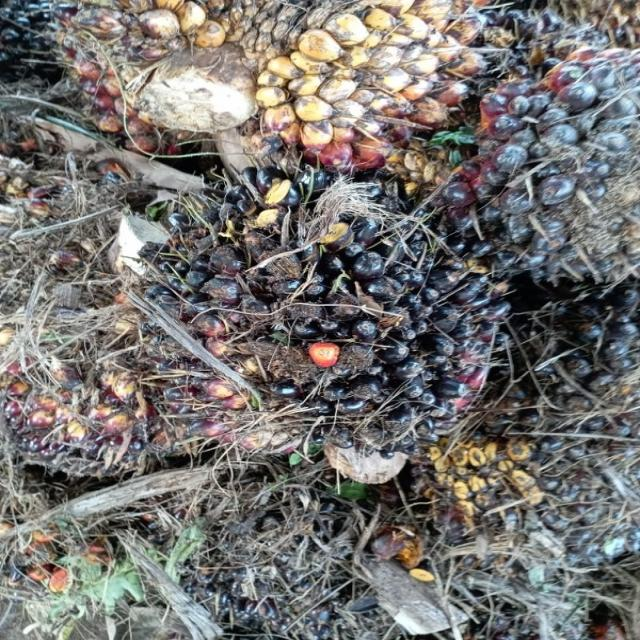fraksi 00: (138, 177, 500, 462)
